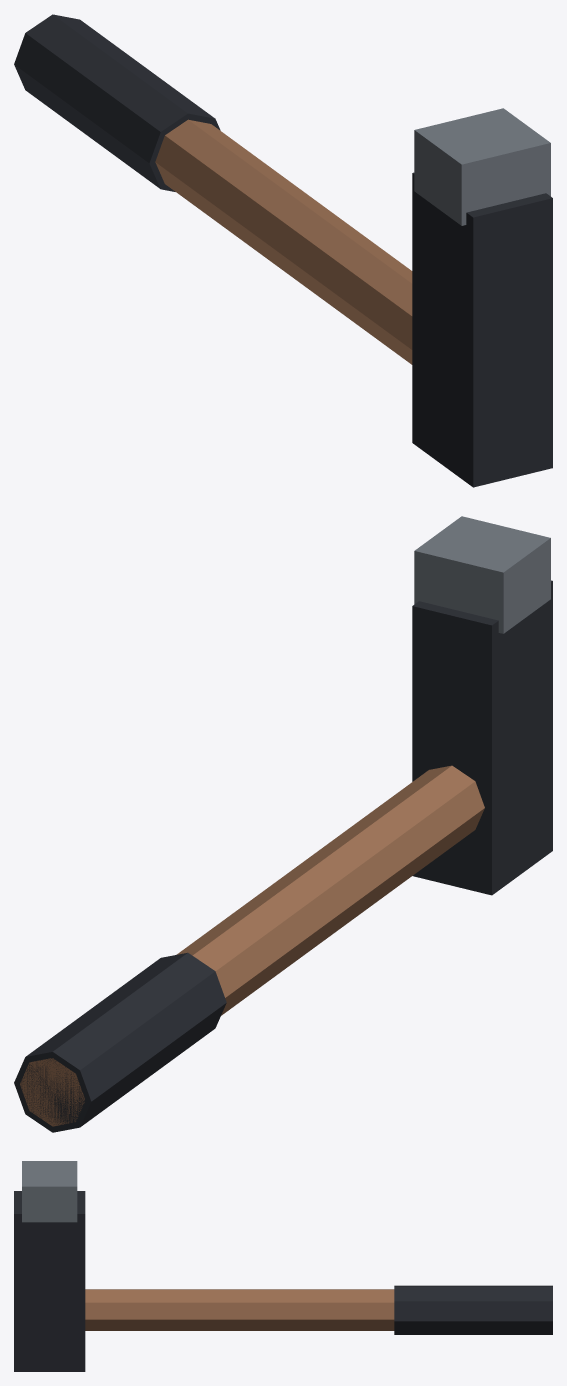
The model's file is hammer.glb.
3 renders of one model, top to bottom at view 1: azimuth 30°, elevation 25°; view 2: azimuth 150°, elevation 25°; view 3: azimuth 270°, elevation 25°, orthographic. The views are drawn at different scales.
Visible parts, largest first — view 1: hammer_mesh; view 2: hammer_mesh; view 3: hammer_mesh.
Part boxes in pixels (bbox=[...]): hammer_mesh: bbox=[14, 14, 552, 487]; hammer_mesh: bbox=[14, 516, 552, 1132]; hammer_mesh: bbox=[14, 1161, 552, 1371].
Bounding box in the file's own units: 0.038 × 0.13 × 0.34.
1 material, 1 textured.
